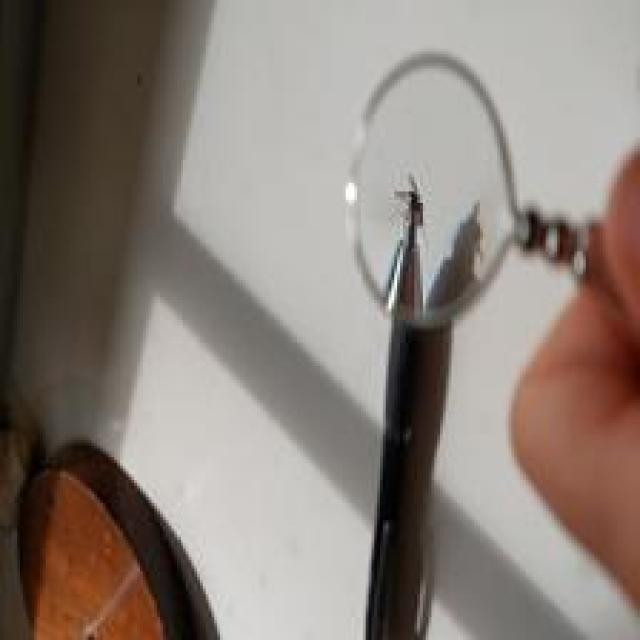Aedes albopictus: (337, 48, 594, 640)
